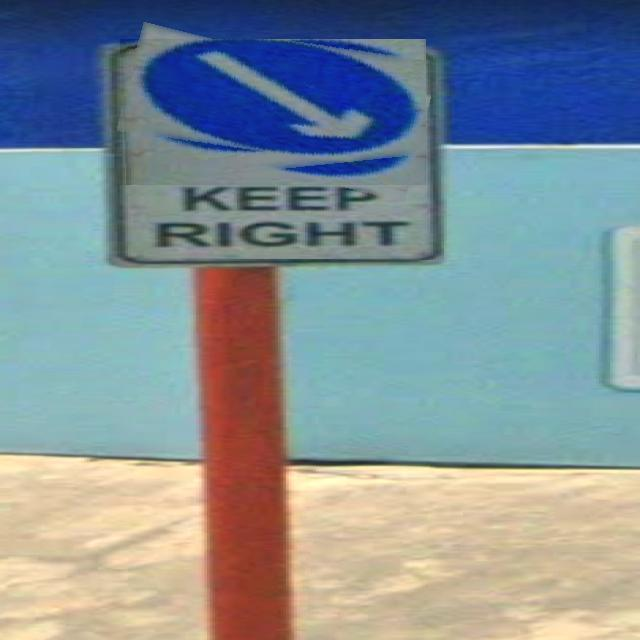keep right: (121, 39, 427, 185)
